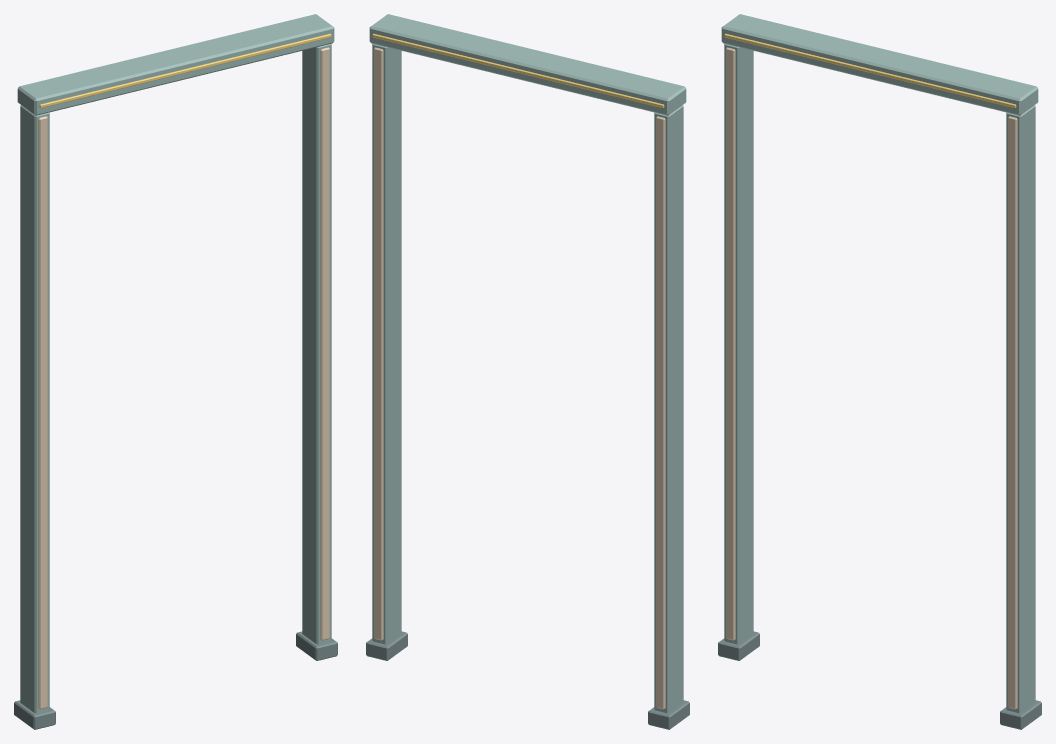
The model's file is Structure-CivicStallDoorFrame.fbx.
3 views of the same model, side by side, from view 1: azimuth 30°, elevation 25°; view 2: azimuth 150°, elevation 25°; view 3: azimuth 330°, elevation 25° (orthographic).
Visible parts, largest first — view 1: Structure-CivicStallDoorFrame Mesh; view 2: Structure-CivicStallDoorFrame Mesh; view 3: Structure-CivicStallDoorFrame Mesh.
Boxes of the visible parts, x1,y1,x2,y2 form: Structure-CivicStallDoorFrame Mesh: (14, 14, 337, 729); Structure-CivicStallDoorFrame Mesh: (366, 14, 689, 729); Structure-CivicStallDoorFrame Mesh: (718, 14, 1041, 729).
Bounding box in the file's own units: 1.02 × 2.01 × 0.12.
